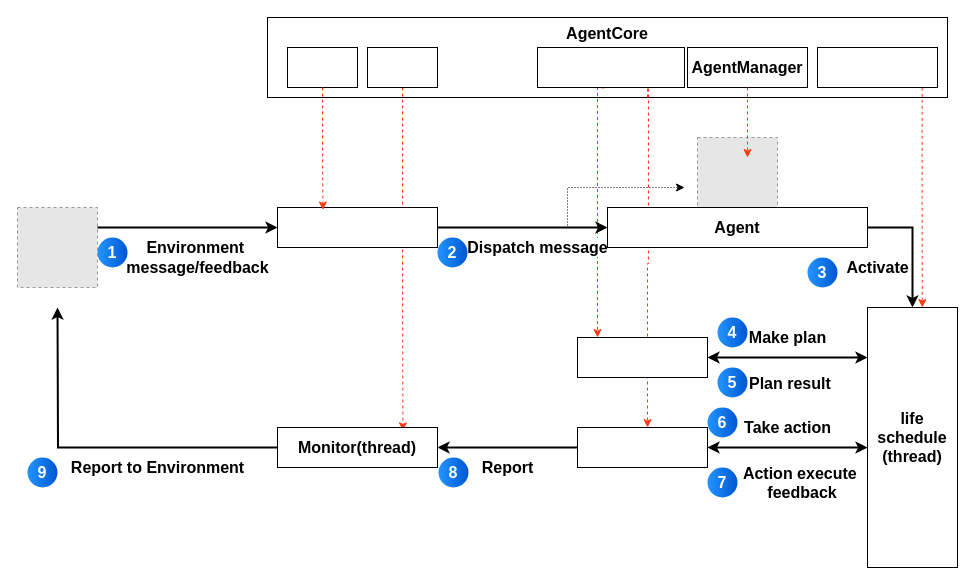
Some shapes in this 975 by 585 pixel diagram are drawn without their labels. Grey dashed boxes stand in for pictures. The shapes that lost their labels are listed below. From the top down, each one's box as (x1, y1, x2, y2) in pixels, then its label:
(286, 46, 358, 88): Receiver
(366, 46, 438, 88): Monitor
(536, 46, 684, 88): ActionManager
(816, 46, 938, 88): LifeManager
(276, 206, 438, 248): Receiver(thread)
(576, 336, 708, 378): Plan
(576, 426, 708, 468): Action
